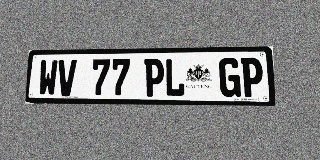7: (90, 59, 110, 96), (110, 59, 130, 96)
G: (219, 58, 241, 97)
L: (165, 58, 185, 97)
P: (241, 57, 264, 97), (144, 59, 164, 97)
V: (57, 60, 77, 96)
W: (38, 60, 58, 96)
